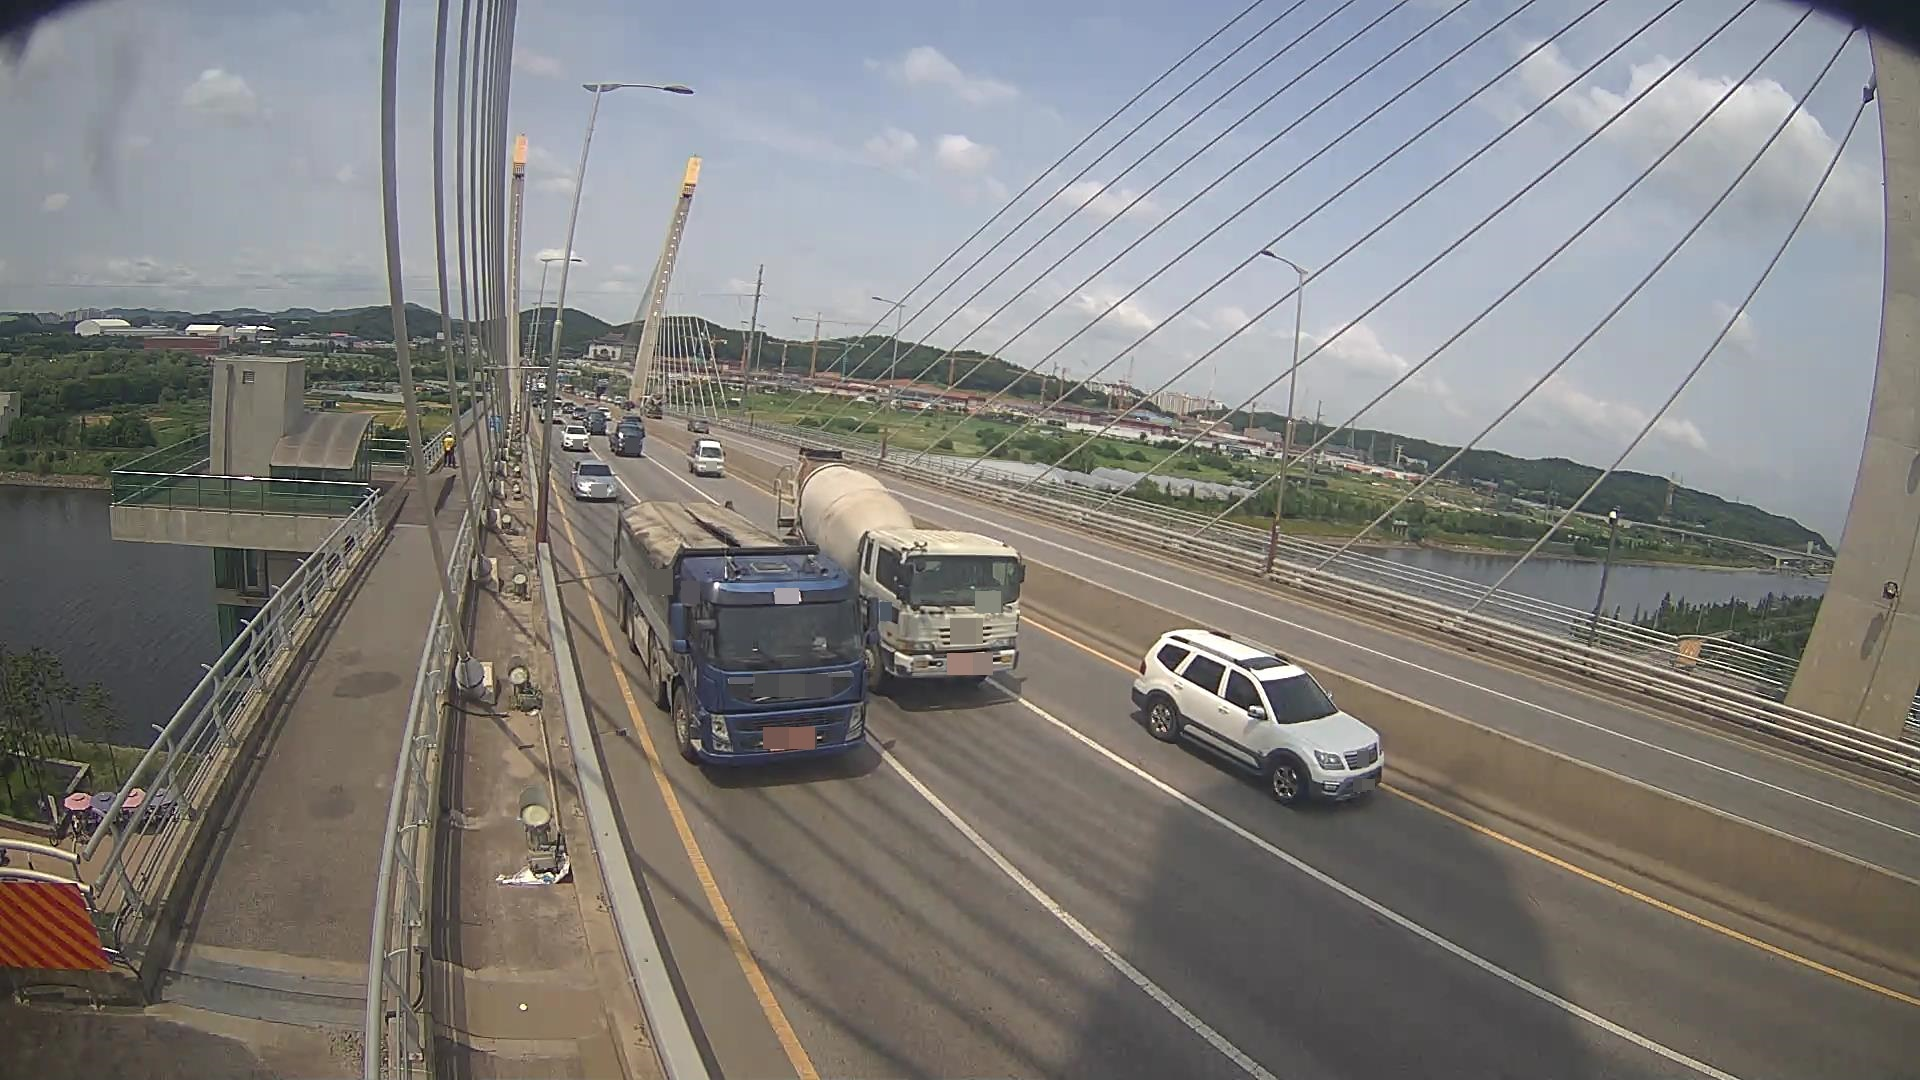정상차량: (613, 501, 880, 765)
